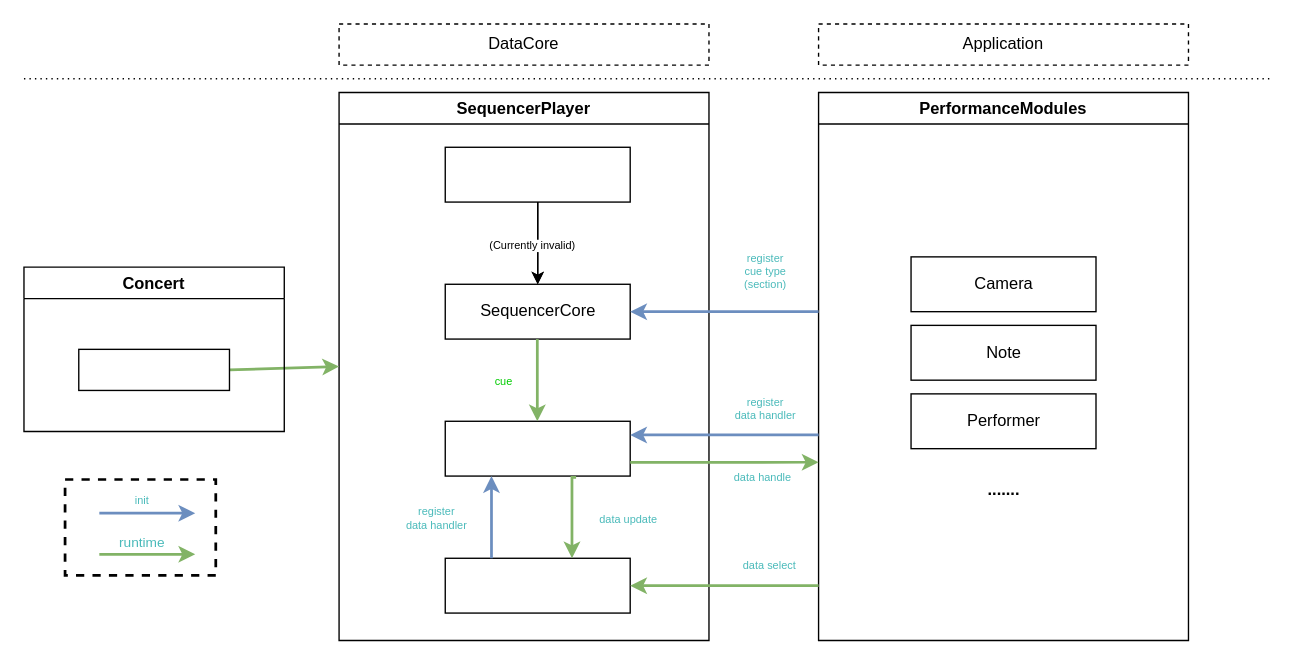
Some shapes in this 1296 by 664 pixel diagram are drawn without their labels. Here are the shapes that lost their labels. From the top down, the centre of each, then its label:
(537,174): BranchController
(153,369): Clock
(537,448): SequencerSignalNotify
(537,585): SequencerEntityProxy
